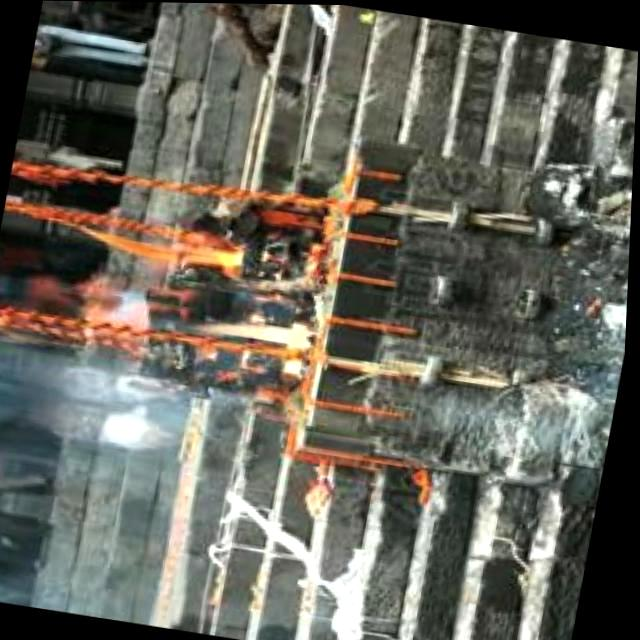fire: (75, 211, 342, 373)
